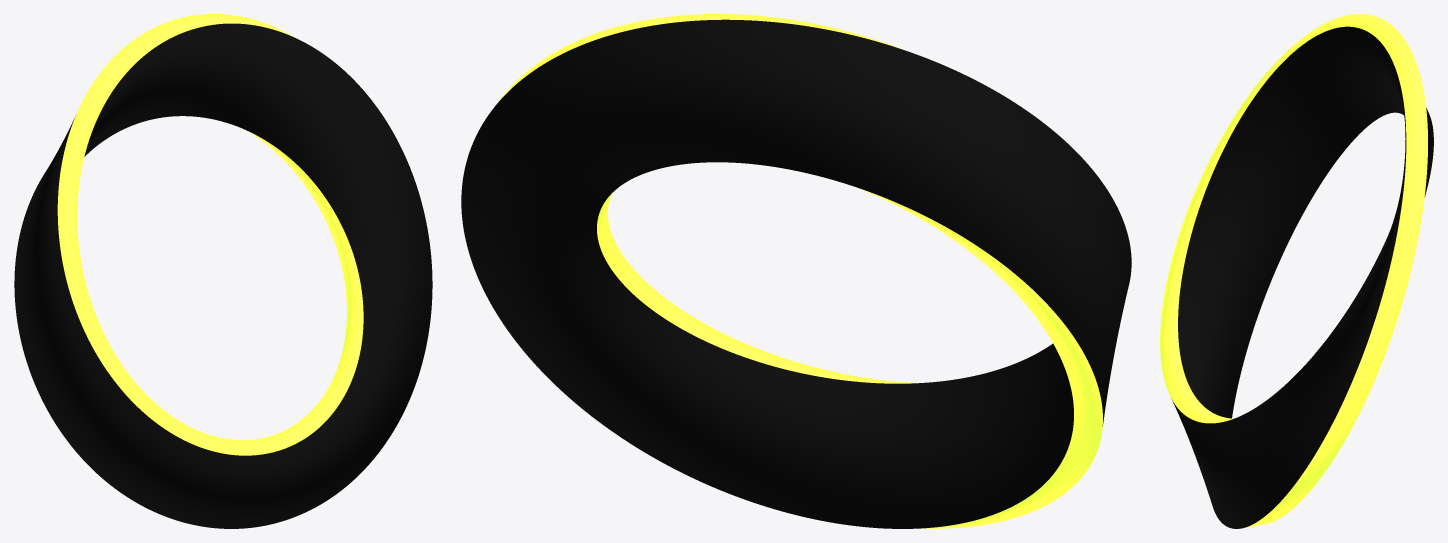
3 views of the same model, side by side, from view 1: azimuth 30°, elevation 25°; view 2: azimuth 150°, elevation 25°; view 3: azimuth 270°, elevation 25° (orthographic). The views are drawn at different scales.
Visible parts, largest first — view 1: obi; view 2: obi; view 3: obi.
Part boxes in pixels (bbox=[...]): obi: bbox=[14, 14, 432, 528]; obi: bbox=[461, 14, 1131, 528]; obi: bbox=[1160, 14, 1433, 528].
Size of the model in its own units: 1.96 by 1.93 by 1.06.
